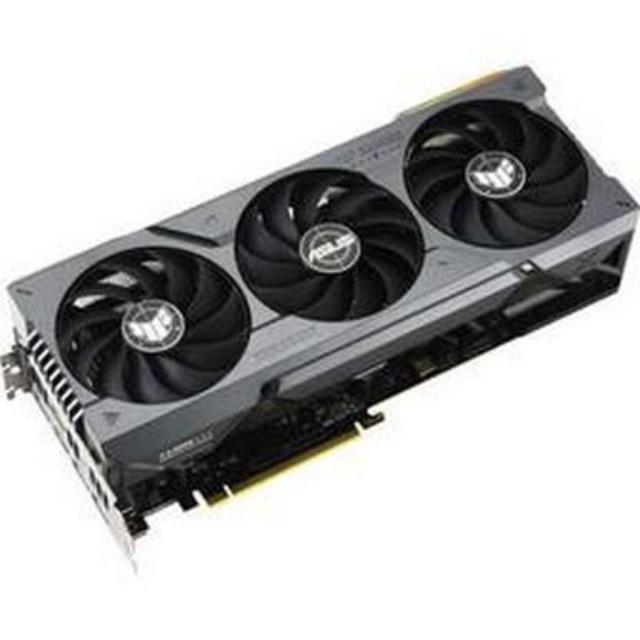GPU: (0, 64, 635, 532)
